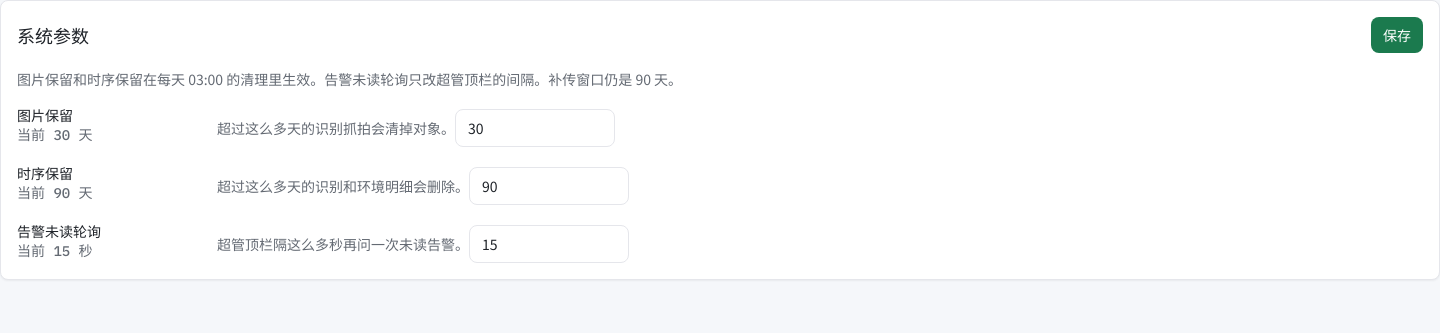
Test case: SystemParamsView › writes 15 秒 → 45 秒 after saving the unread poll
Replace the text in the number field named "告警未读轮询" with "45": {"x": 549, "y": 244} [469, 225, 629, 263]
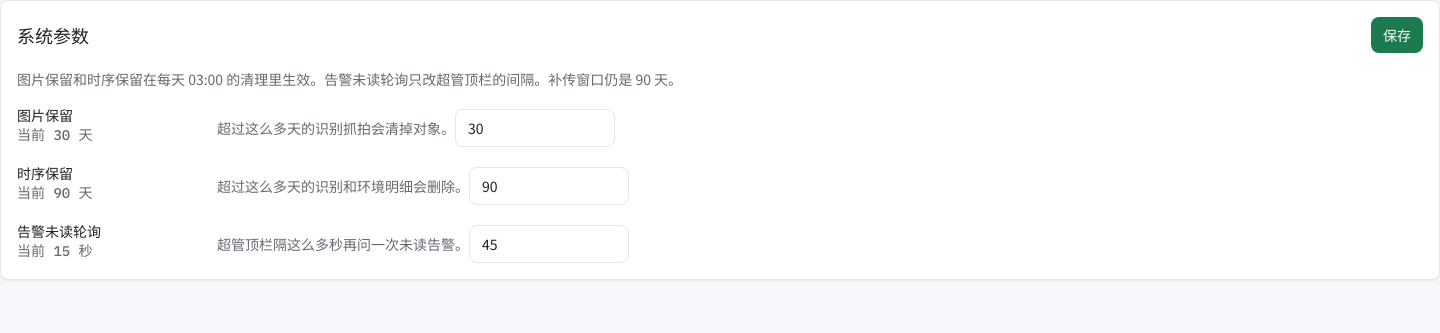
Click the button with test id "sys-params-save": {"x": 1397, "y": 35} [1371, 17, 1423, 53]
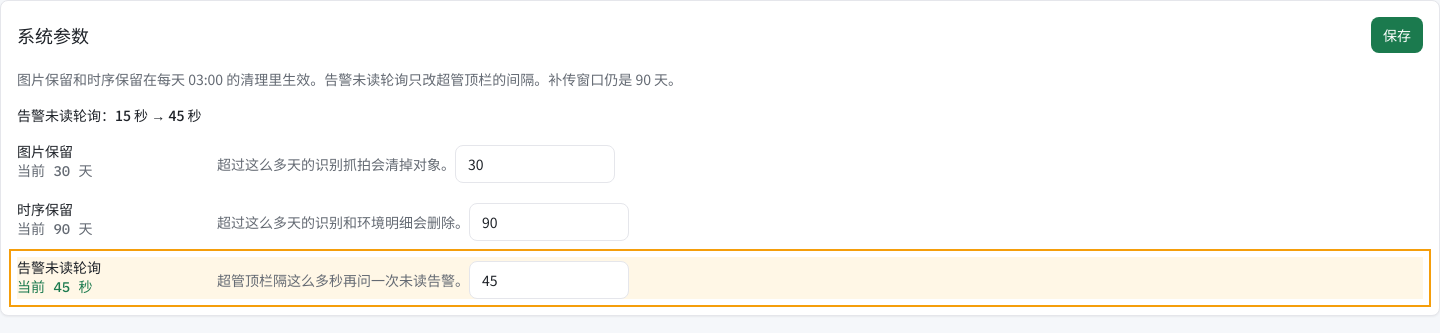
Check: the element showing "图片保留 当前 30 天 超过这么多天的识别抓拍会清掉对象。" is shown, box [17, 141, 615, 183]
Check: the text with test id "sys-params-notice" reads "告警未读轮询：15 秒 → 45 秒", box [17, 105, 202, 125]
Check: the element showing "告警未读轮询 当前 45 秒 超管顶栏隔这么多秒再问一次未读告警。" is shown, box [17, 257, 1423, 299]
